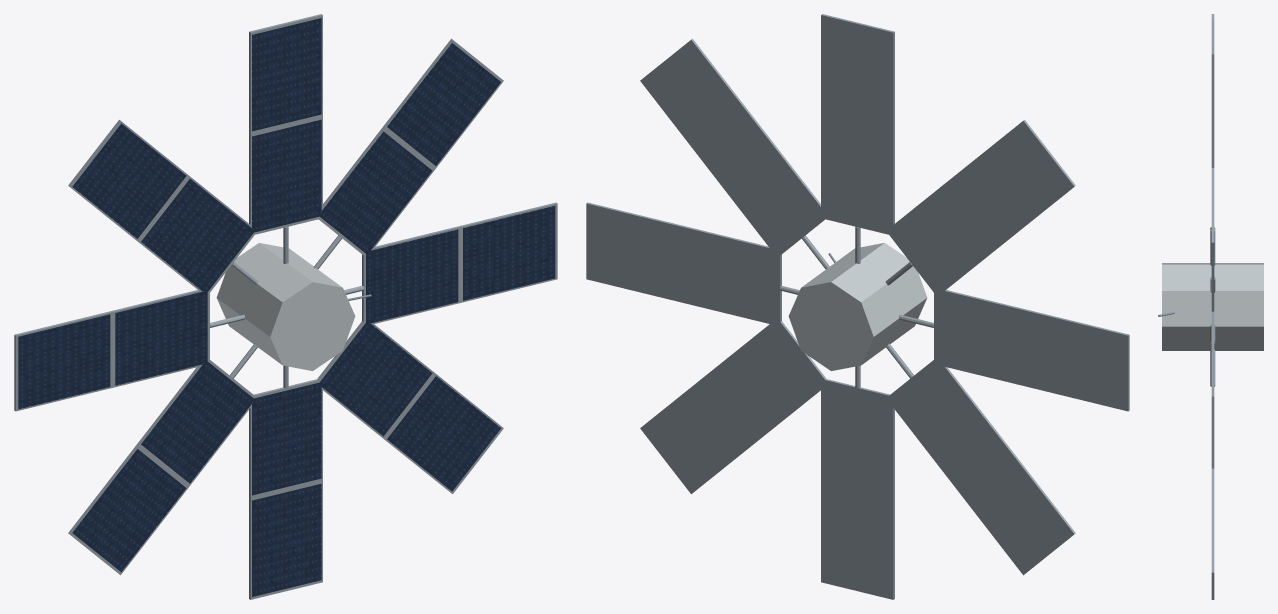
Rendered from ref-geosat-15595.glb.
3 renders of one model, left to right at view 1: azimuth 30°, elevation 25°; view 2: azimuth 150°, elevation 25°; view 3: azimuth 270°, elevation 25°, orthographic. The views are drawn at different scales.
Visible parts, largest first — view 1: Photovoltaic laminates (×16), Array frame (×16), Spacecraft body; view 2: Array frame (×16), Spacecraft body; view 3: Spacecraft body, Array frame (×4).
Boxes of the visible parts, box(x1,y1,x2,y2) form: Photovoltaic laminates (×16): box(18, 18, 555, 596); Array frame (×16): box(14, 14, 557, 599); Spacecraft body: box(216, 243, 355, 370); Array frame (×16): box(586, 14, 1129, 599); Spacecraft body: box(788, 243, 927, 370); Spacecraft body: box(1162, 263, 1263, 350); Array frame (×4): box(1211, 20, 1214, 599).
Bounding box in the file's own units: 7 × 7 × 1.25.
3 materials, 1 textured.
